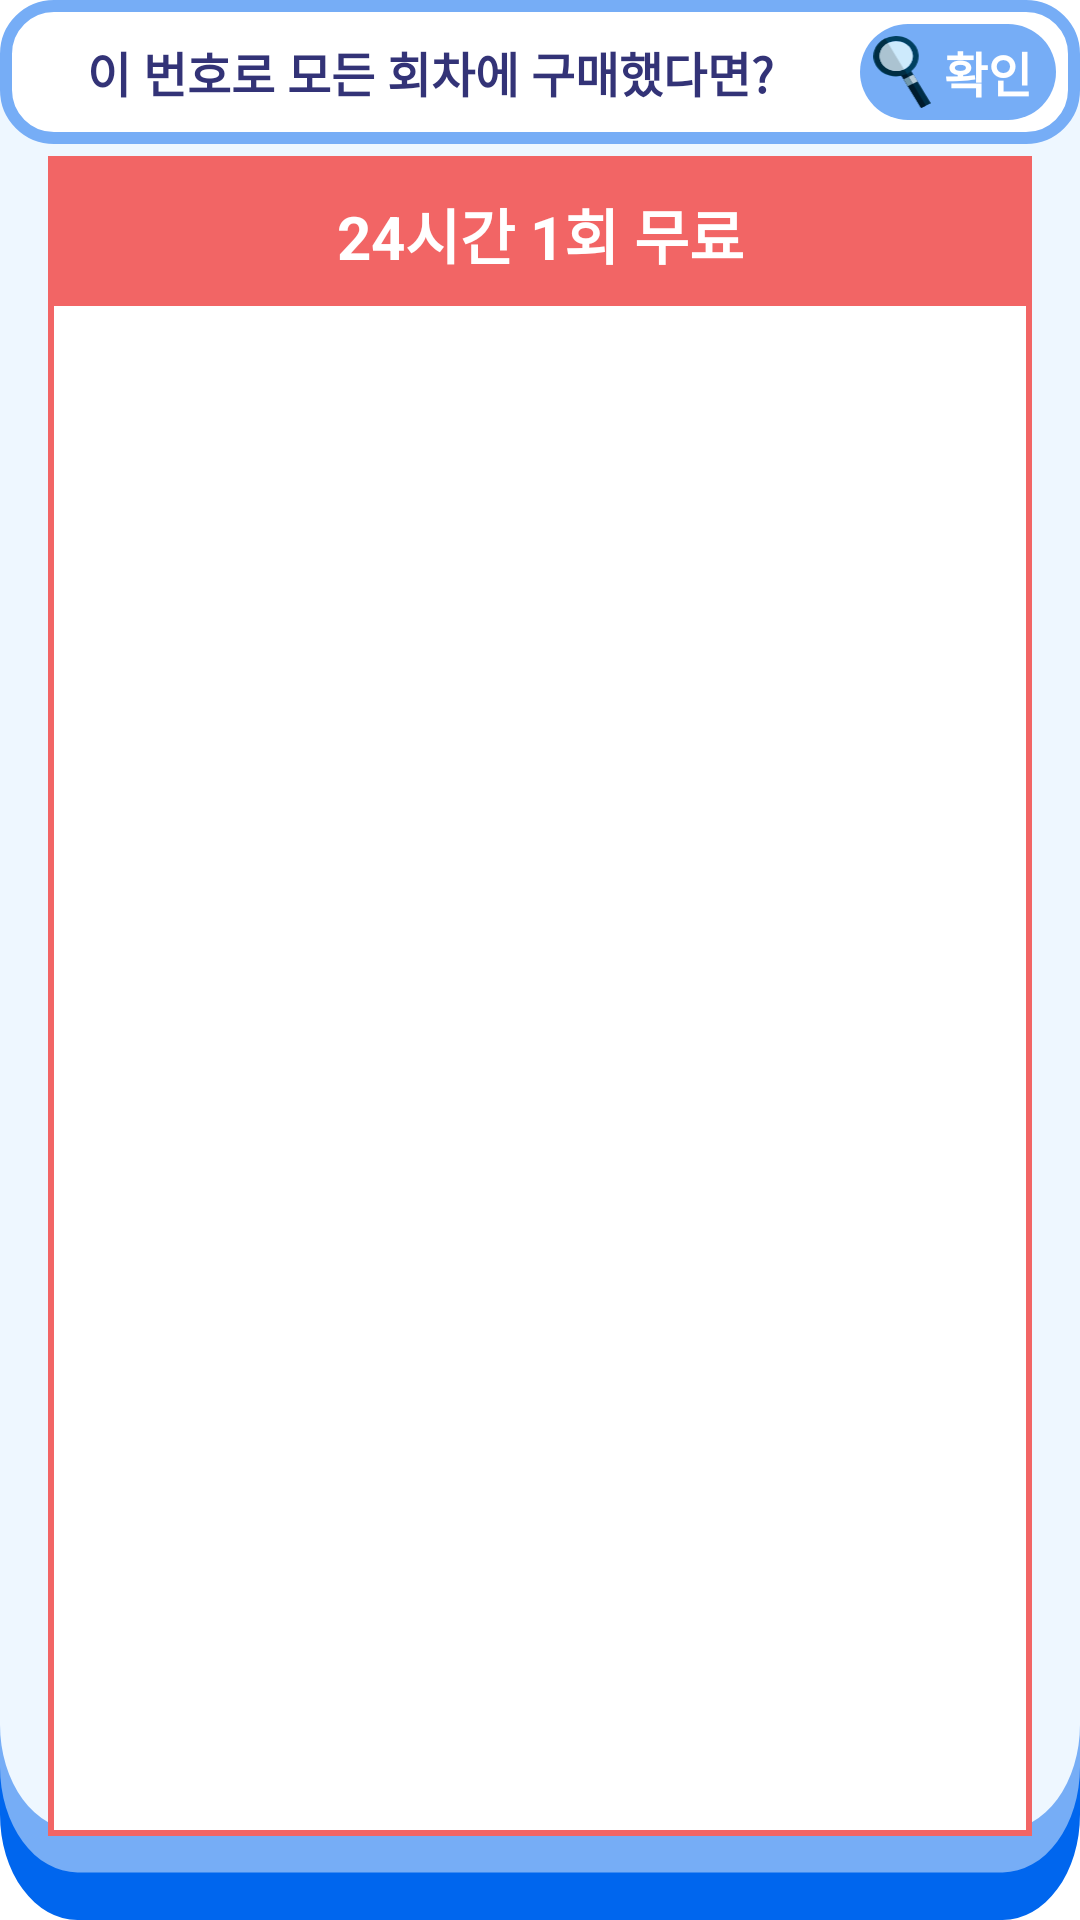

Screen size 1080px×1920px. Icon name, then its box in pixels as (x1, y1, x2, y2):
research search: (873, 36, 931, 108)
